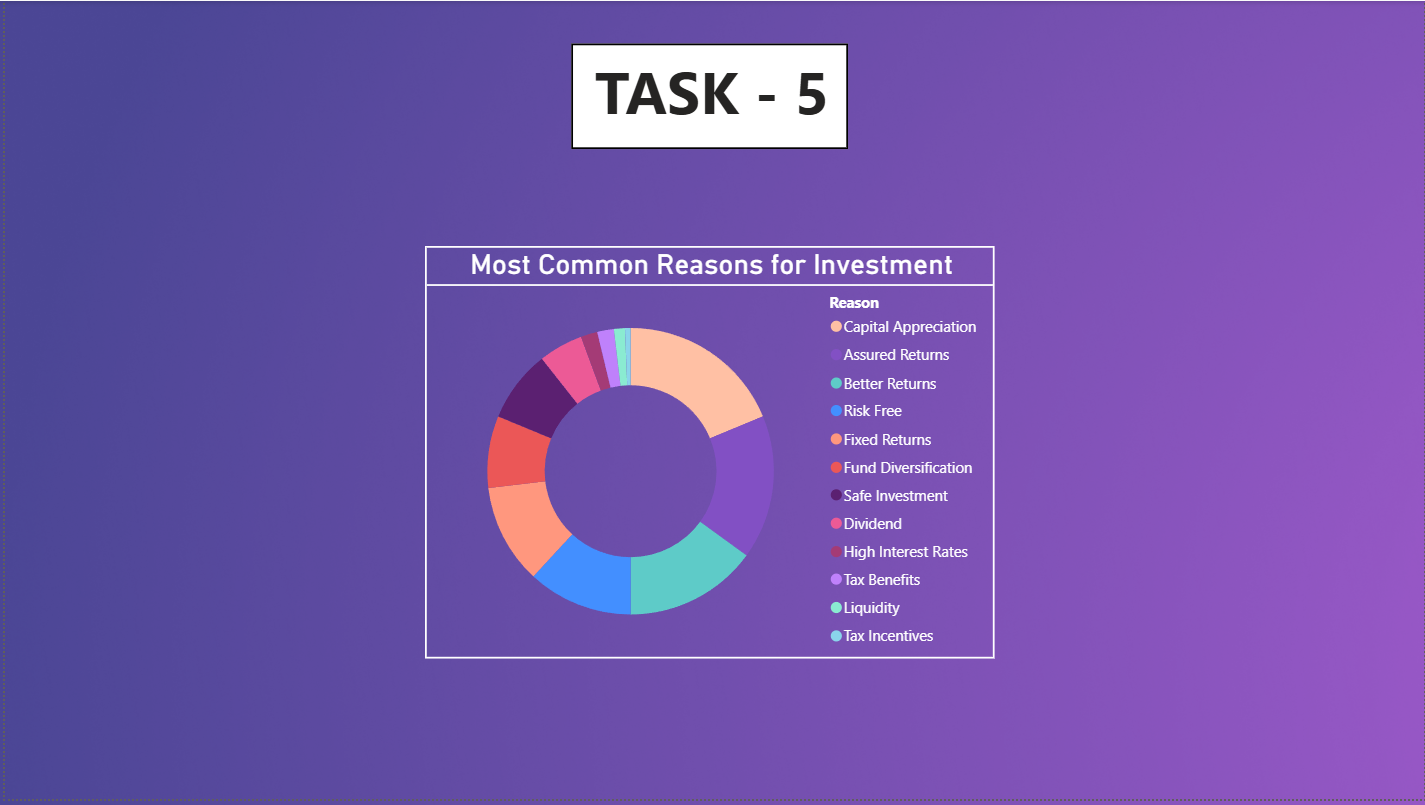

The dashboard page shown, as its layout file describes it:
{"tool":"powerbi","page":{"name":"Task 5","canvas":[1280,720],"ordinal":4},"visuals":[{"type":"donutChart","title":"Most Common Reasons for Investment","fields":{"Category":["Data_set 2.Reason"],"Y":["CountNonNull(Data_set 2.Reason)"]},"box":[378.7,220.9,514,371.9],"z":0},{"type":"textbox","box":[511.1,37.9,249.5,95.4],"z":1000}]}

Visuals, with their boxes in screenshot pixels (x1, y1, x2, y2), scaled from the page's 1280x720 canvas onto the 1425x805 screenshot:
"Most Common Reasons for Investment" donutChart: detection(422, 247, 994, 663)
textbox: detection(569, 42, 847, 149)
